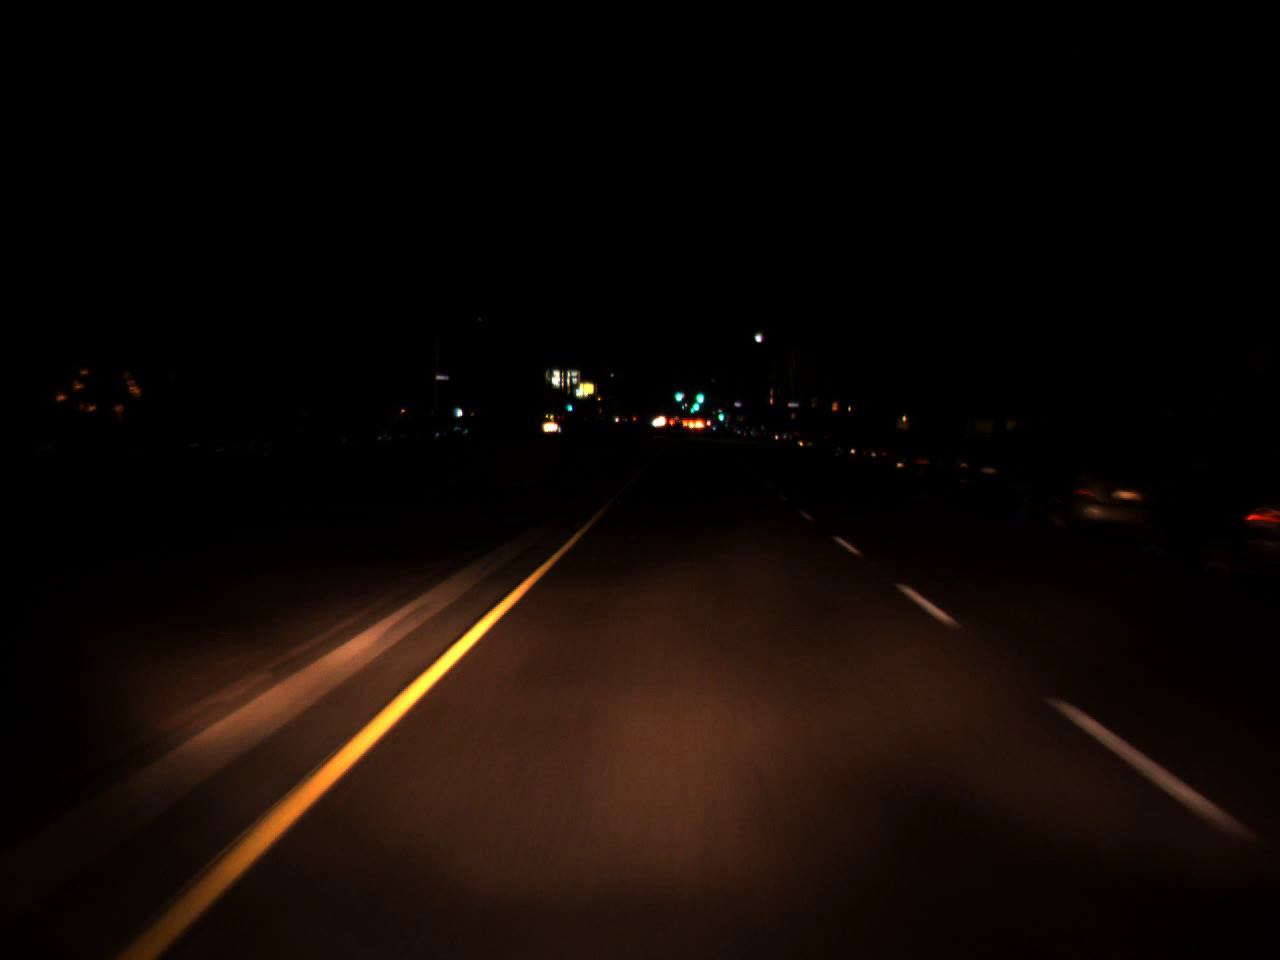go: (686, 388, 702, 415), (673, 383, 683, 404), (695, 387, 705, 402), (715, 409, 724, 421), (566, 400, 573, 412)
